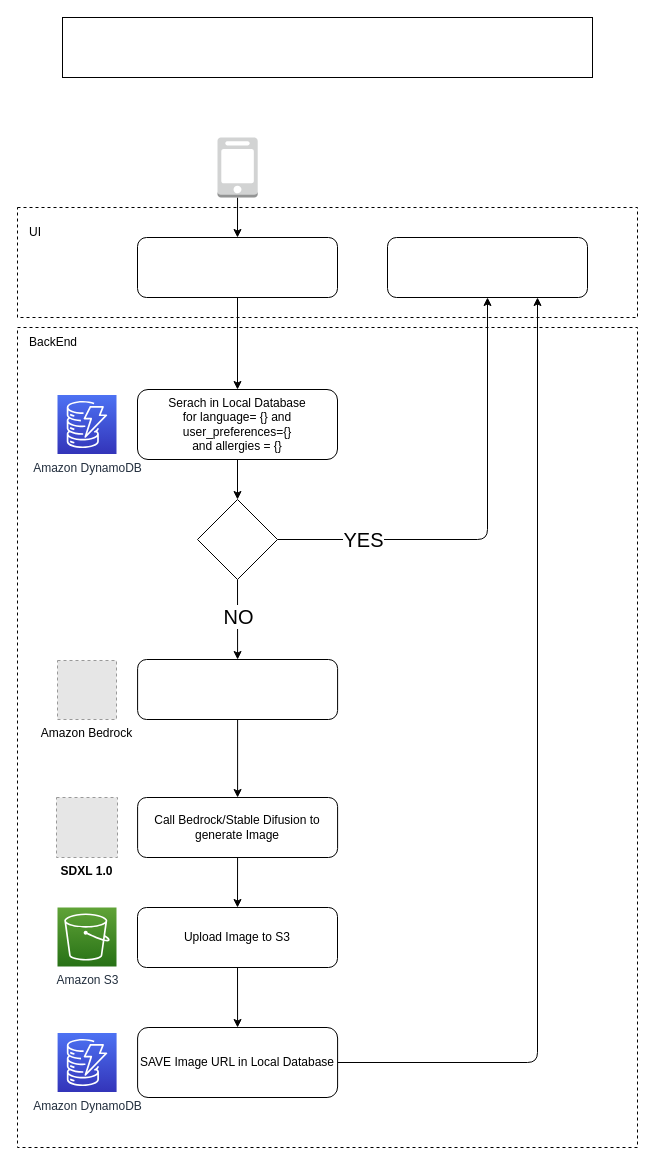
This 655x1165 diagram has some shape labels left out. Grey dashed boxes stand in for pictures. The shapes that lost their labels are listed below. From the top down, each one's centre as x and y in pixels, then its label:
At (327,47): "Image Flow".
At (237,267): "Fetch Image For ProductCode".
At (487,267): "Display Image".
At (237,539): "Found ?".
At (237,689): "Call Bedrock/Claude Instant To generate PROMPT".
